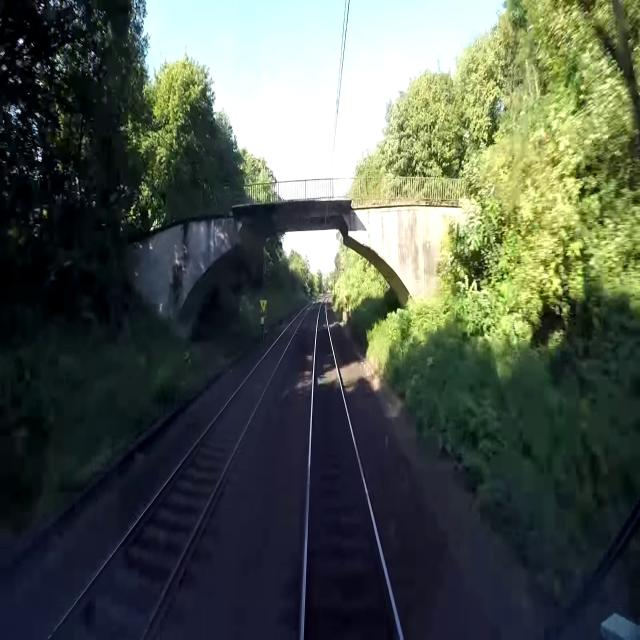rail-track: (50, 303, 311, 639), (304, 300, 398, 639)
